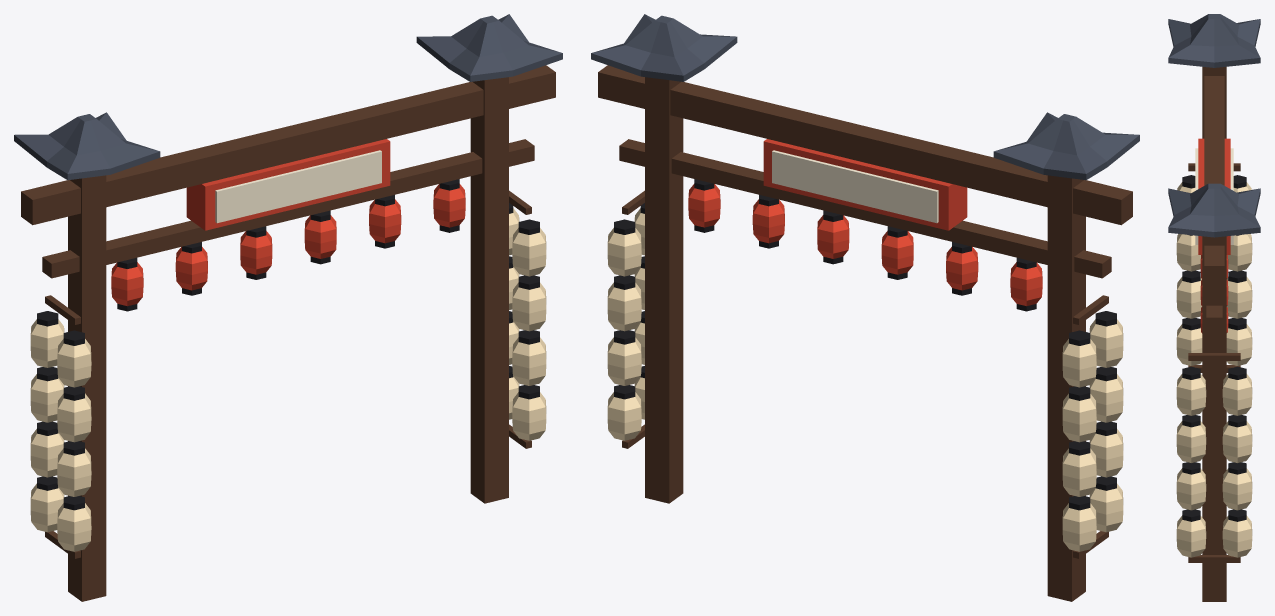
The model's file is chochin-gate.glb.
3 renders of one model, left to right at view 1: azimuth 30°, elevation 25°; view 2: azimuth 150°, elevation 25°; view 3: azimuth 270°, elevation 25°, orthographic. The views are drawn at different scales.
Visible parts, largest first — view 1: ChochinGate_Posts, ChochinGate_LanternW, ChochinGate_Roof, ChochinGate_LanternR, ChochinGate_Sign, ChochinGate_Caps, ChochinGate_SignRim; view 2: ChochinGate_Posts, ChochinGate_LanternW, ChochinGate_Roof, ChochinGate_LanternR, ChochinGate_Sign, ChochinGate_Caps, ChochinGate_SignRim; view 3: ChochinGate_LanternW, ChochinGate_Posts, ChochinGate_Roof, ChochinGate_Caps, ChochinGate_SignRim, ChochinGate_Sign, ChochinGate_LanternR.
Part boxes in pixels (x1,y1,x2,y2): ChochinGate_Posts: (21,65,555,601); ChochinGate_LanternW: (30,208,546,551); ChochinGate_Roof: (14,14,562,180); ChochinGate_LanternR: (111,184,465,306); ChochinGate_Sign: (215,150,381,223); ChochinGate_Caps: (37,179,539,510); ChochinGate_SignRim: (186,139,390,230); ChochinGate_Posts: (598,65,1132,601); ChochinGate_LanternW: (607,208,1123,551); ChochinGate_Roof: (591,14,1139,180); ChochinGate_LanternR: (688,184,1042,306); ChochinGate_Sign: (772,150,938,223); ChochinGate_Caps: (614,179,1116,510); ChochinGate_SignRim: (763,139,967,230); ChochinGate_LanternW: (1176,182,1252,557); ChochinGate_Posts: (1188,66,1240,601); ChochinGate_Roof: (1168,14,1260,237); ChochinGate_Caps: (1182,175,1246,521); ChochinGate_SignRim: (1198,138,1230,254); ChochinGate_Sign: (1195,148,1233,244); ChochinGate_LanternR: (1200,255,1228,333).
Bounding box in the file's own units: 26 × 22.6 × 4.6.
